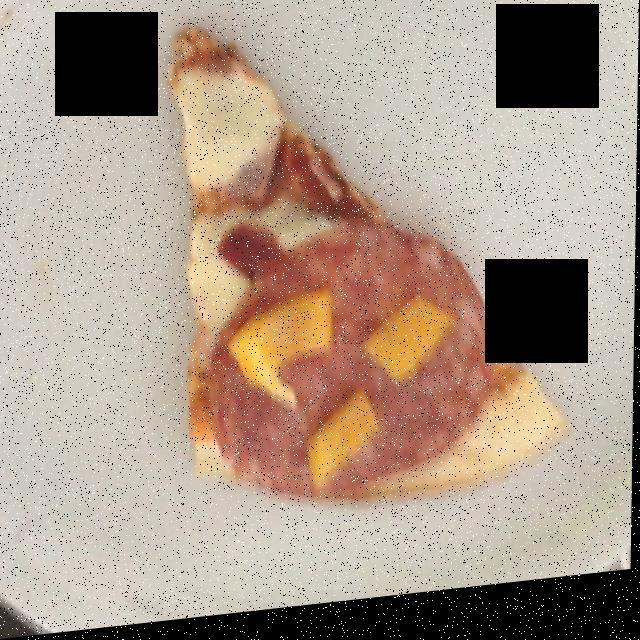bell-pepper: (231, 283, 457, 491), (245, 299, 454, 496)
pizza: (182, 18, 558, 503), (179, 60, 556, 511)
salami: (206, 232, 491, 511), (222, 254, 496, 505)
